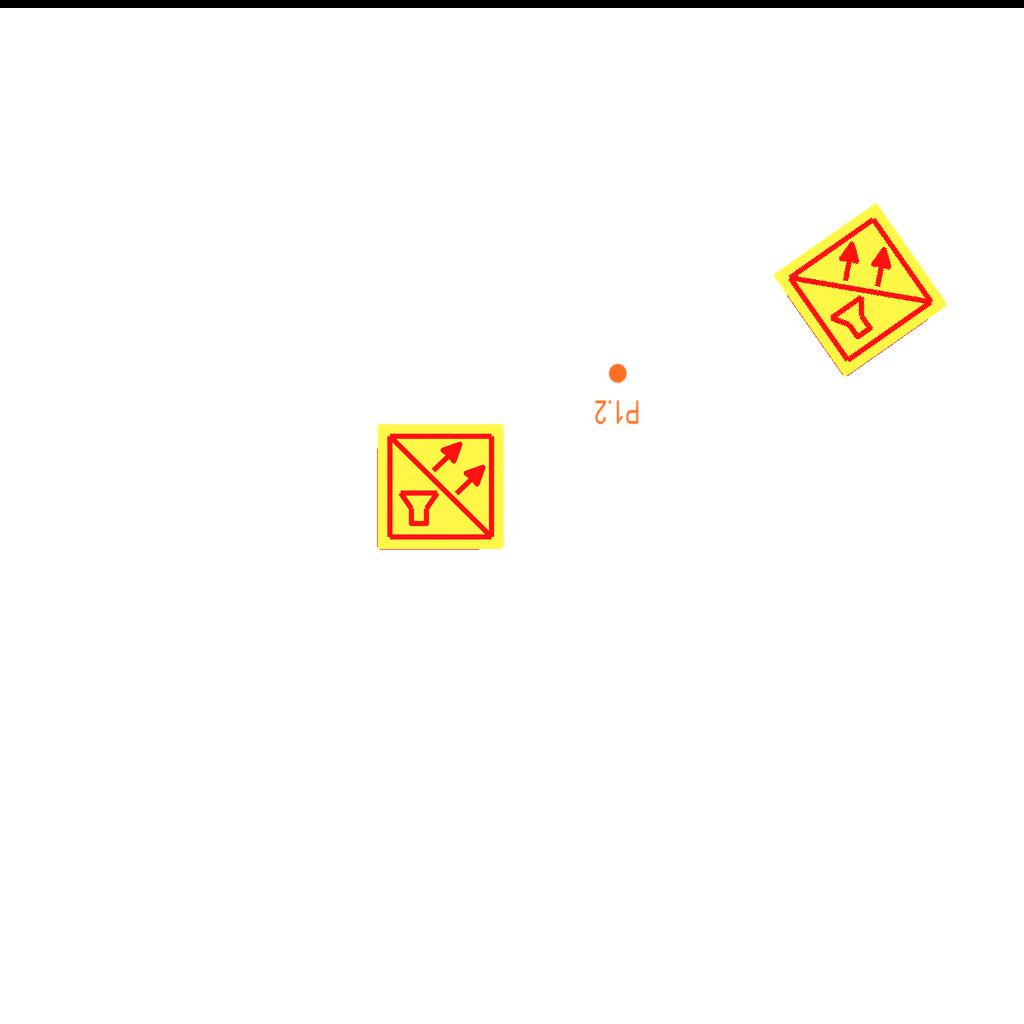Downlight_LED_Einbauleuchten_Flur: (594, 362, 640, 426)
OKW_Multisensormelder_(Kombination_optischer_Rauch-Kahlenmonoxid_Waerme-Melder): (769, 198, 953, 382), (375, 421, 507, 553)
